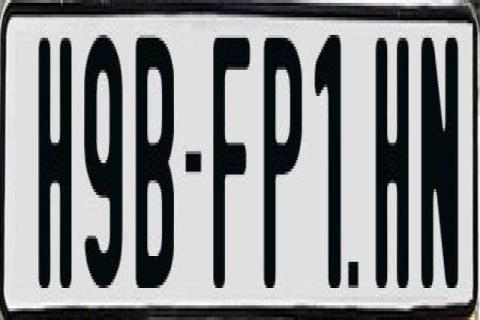0: (83, 35, 126, 303), (312, 26, 344, 291)
B: (134, 38, 176, 300)
F: (212, 32, 248, 294)
H: (372, 29, 412, 297), (38, 32, 76, 296)
N: (421, 38, 459, 291)
P: (262, 38, 306, 297)
